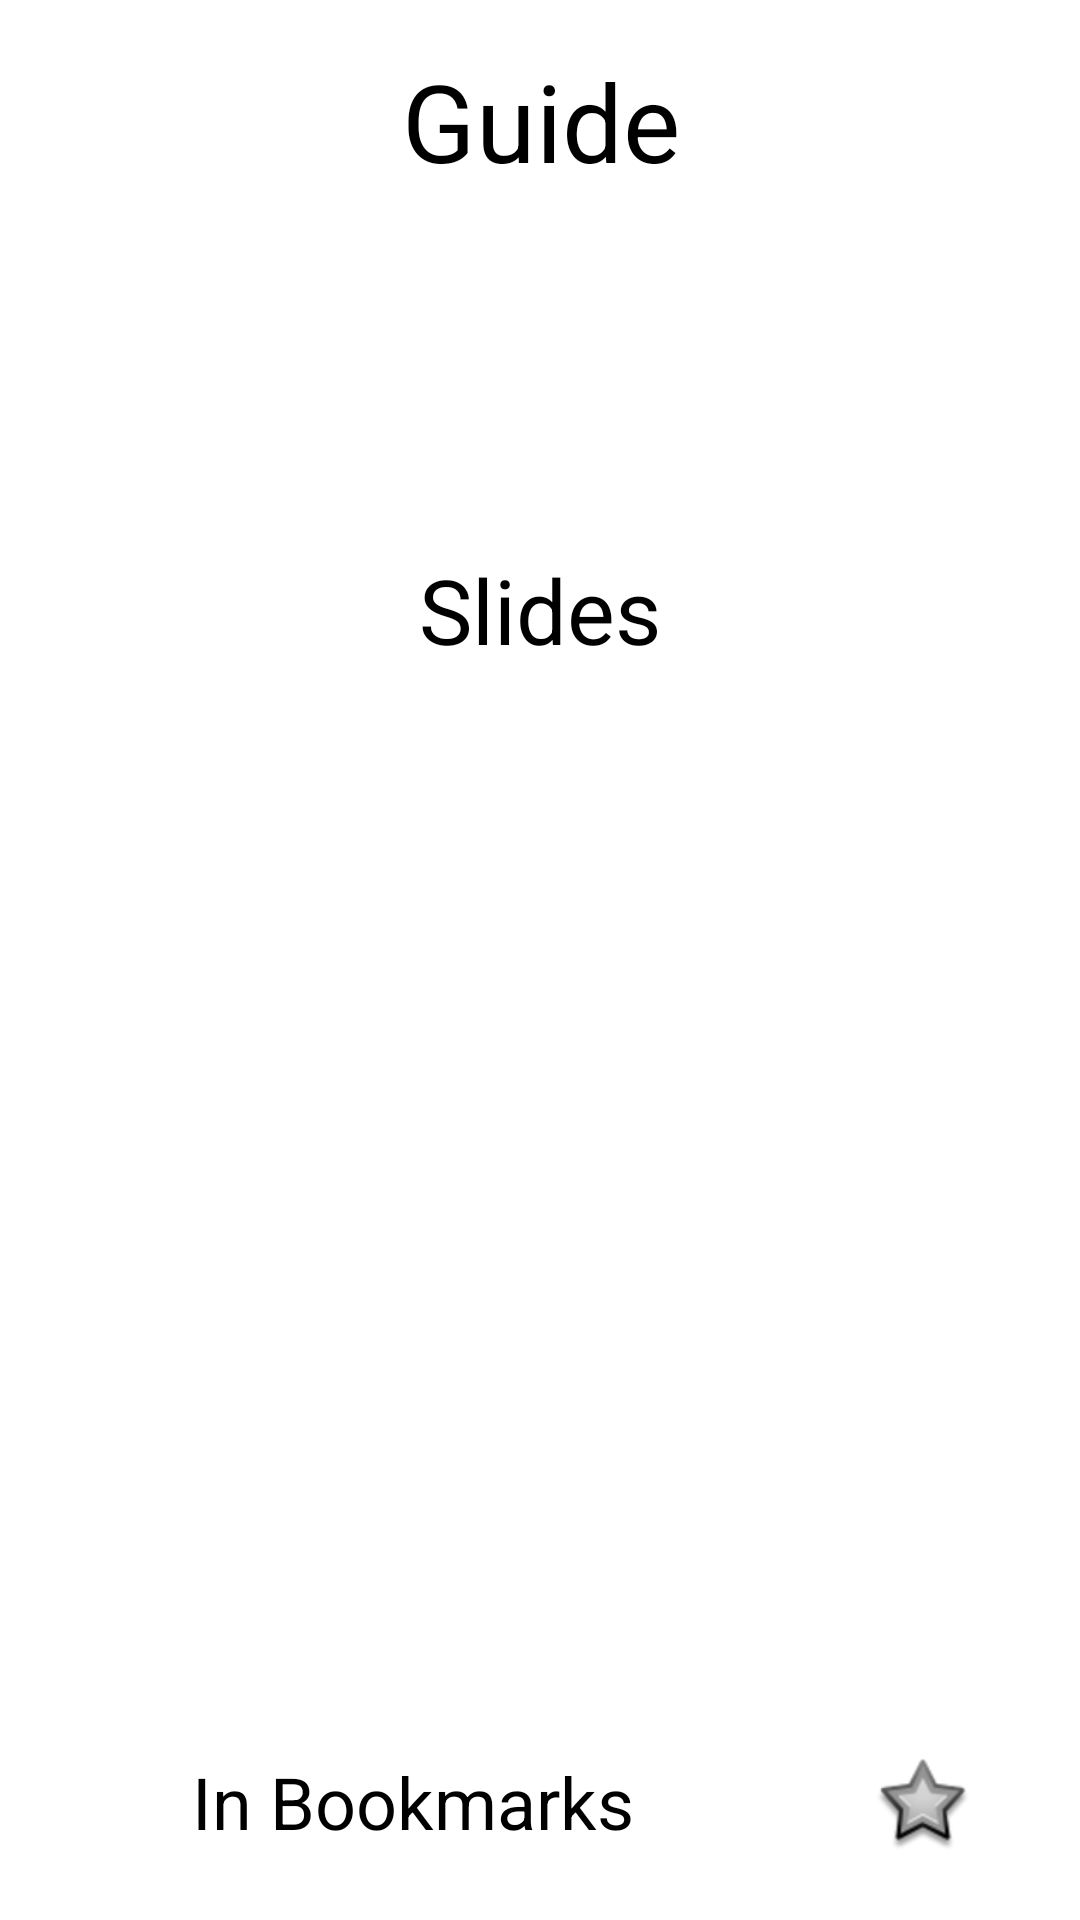

Named icons in this screenshot (1080*1920) and their bounding boxes, (x1, y1, x2, y2):
star off: (880, 1759, 966, 1846)
